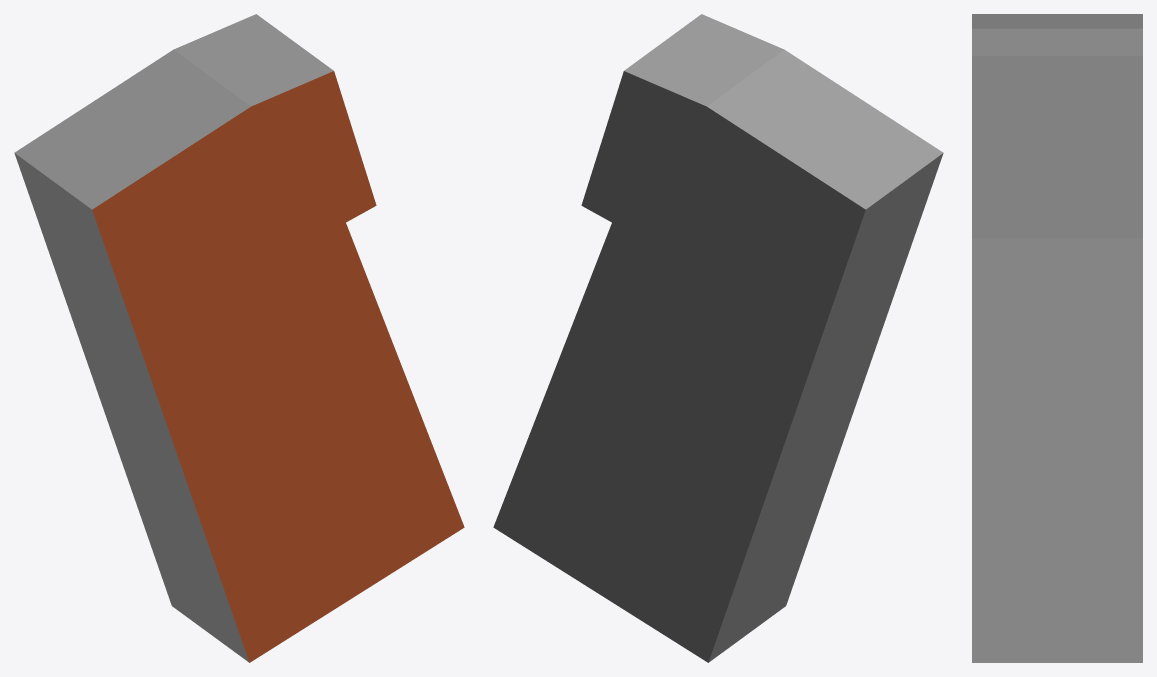
The model's file is construction_3747_assumed_A_Casa_h6m.obj.
The picture shows the model from 3 angles, left to right: view 1: azimuth 30°, elevation 25°; view 2: azimuth 150°, elevation 25°; view 3: azimuth 270°, elevation 25°; orthographic projection. The views are drawn at different scales.
Visible parts, largest first — view 1: construction_3747_assumed_A_Casa; view 2: construction_3747_assumed_A_Casa; view 3: construction_3747_assumed_A_Casa.
Part boxes in pixels (x1,y1,x2,y2): construction_3747_assumed_A_Casa: [14, 14, 464, 662]; construction_3747_assumed_A_Casa: [493, 14, 943, 662]; construction_3747_assumed_A_Casa: [972, 14, 1142, 662].
Size of the model in its own units: 16.59 by 24.32 by 6.
